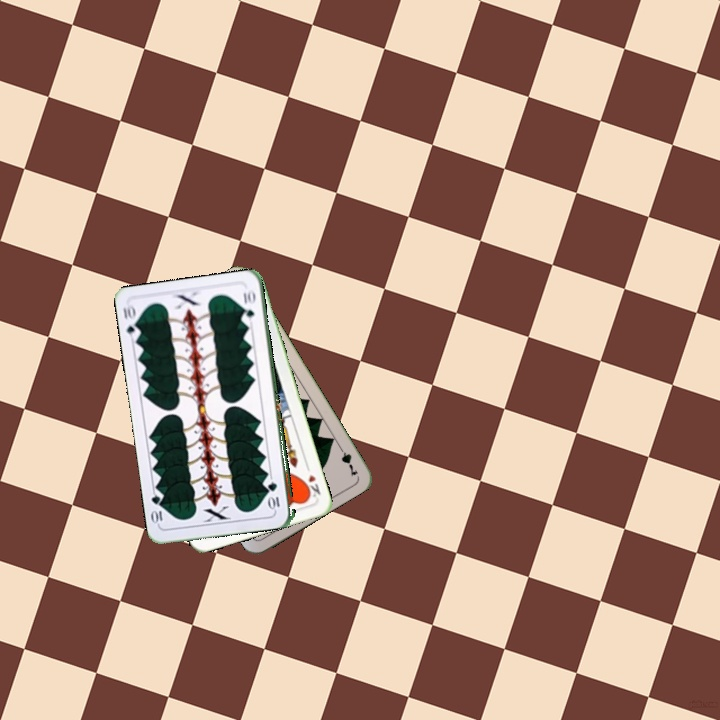G10: (119, 302, 143, 342), (266, 477, 282, 512)
G7: (334, 440, 360, 479)
HK: (300, 461, 323, 502)
